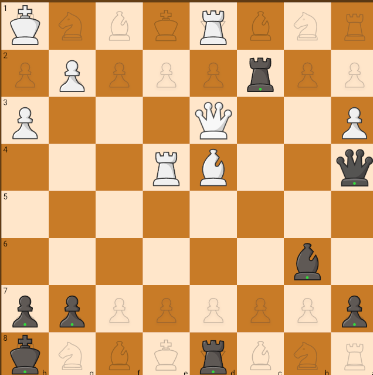bb: (285, 240, 330, 283)
bk: (332, 144, 372, 192), (3, 334, 47, 375)
bp: (1, 288, 48, 332), (4, 4, 48, 47), (333, 286, 373, 332), (52, 292, 90, 330)
br: (239, 54, 281, 95), (197, 335, 232, 375)
wb: (192, 147, 234, 188)
wp: (2, 101, 45, 142), (54, 55, 87, 97), (339, 104, 370, 141)
wq: (192, 99, 236, 141)
wr: (193, 3, 231, 47), (145, 150, 185, 188)
